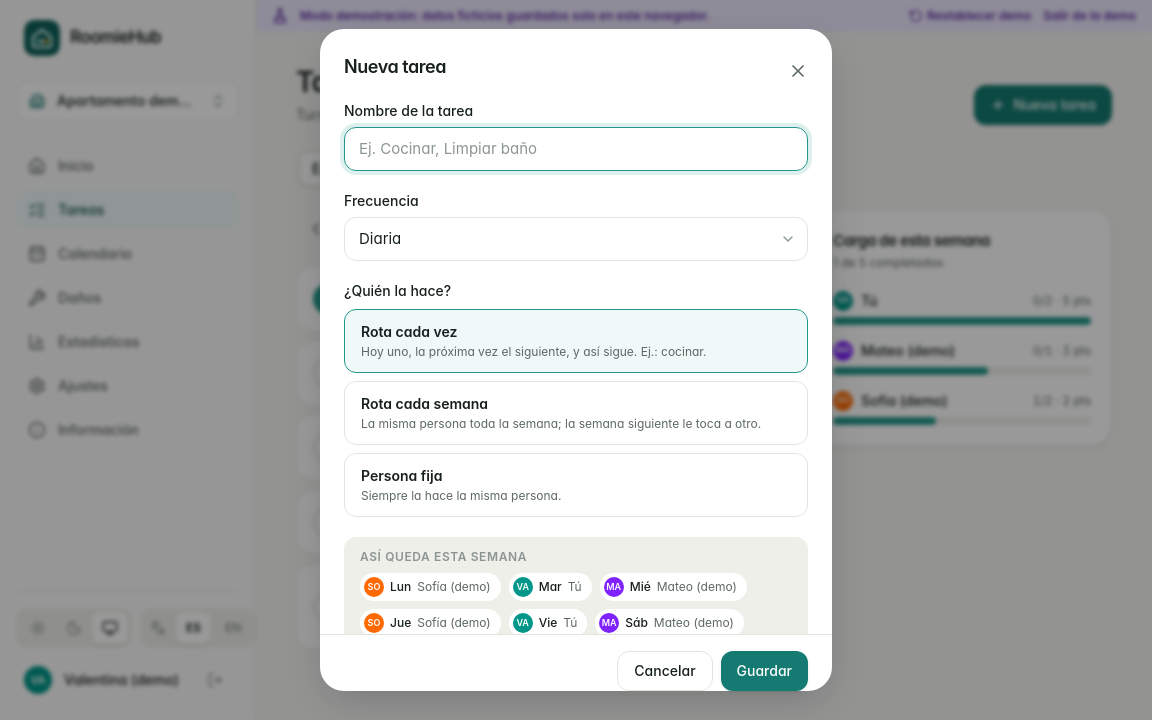
Scenario: deleting chores › removes a chore created by mistake completely, including skipped turns
The width and height of the screenshot is (1152, 720).
In the field labelled "Nombre de la tarea": (576, 149) [344,127,808,171], type "Tarea equivocada"
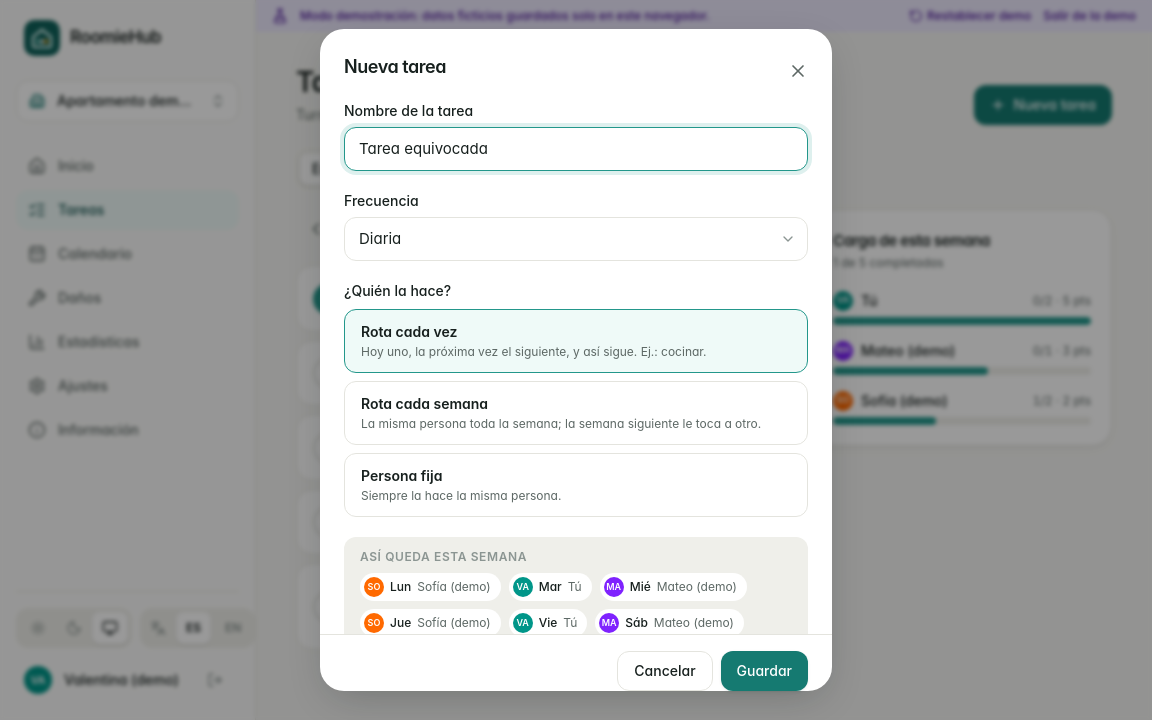
Click the button "Guardar": (764, 671) [721,651,808,691]
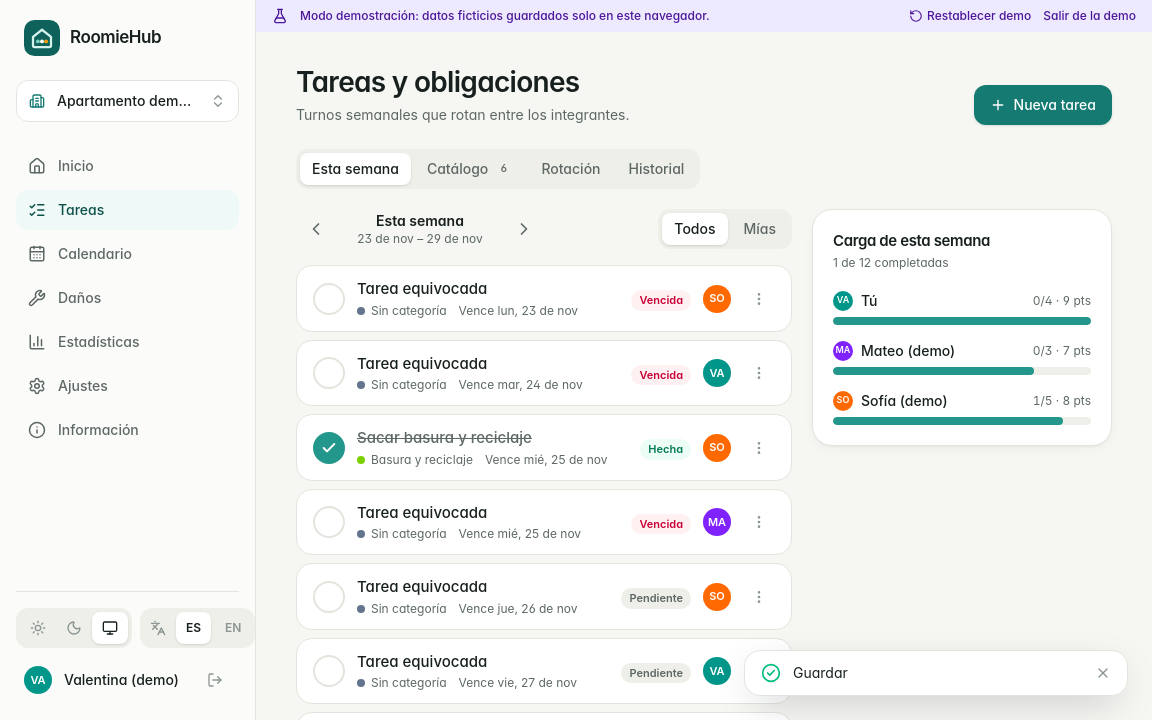
Check: the dialog is gone
Click the button named "Acciones" in the row of "Vence lun, 23 de nov": (759, 299) [743,283,775,315]
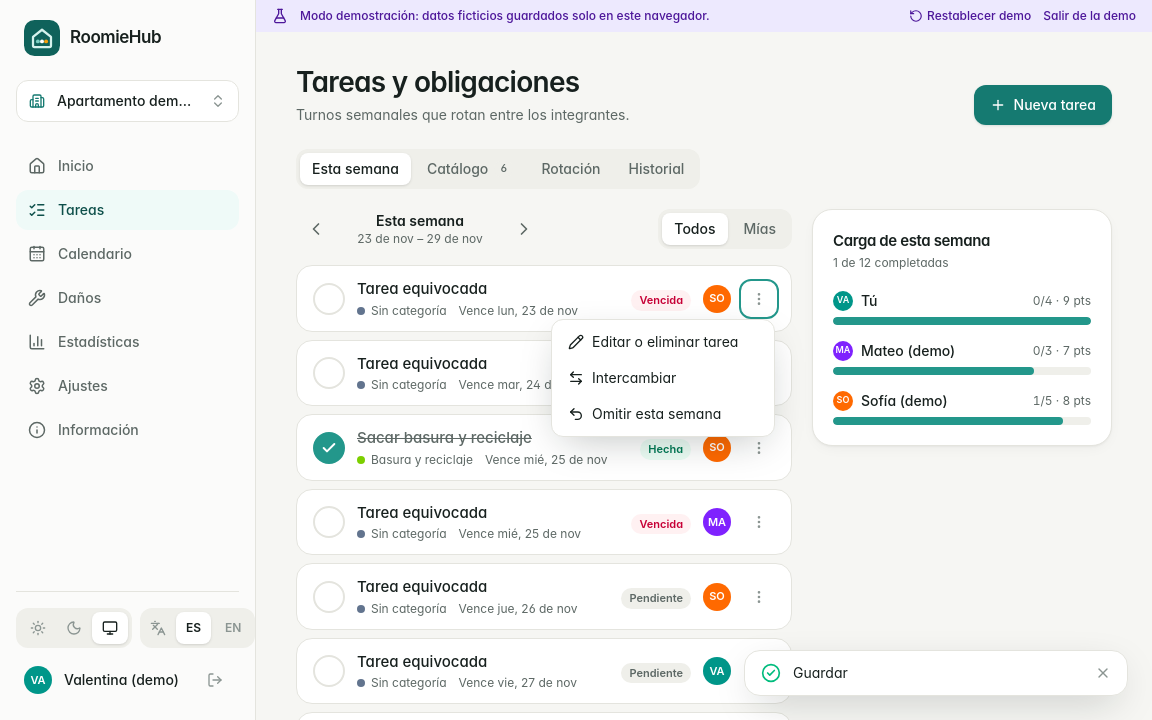
Click the menu item "Editar o eliminar tarea": (663, 342) [556,324,770,360]
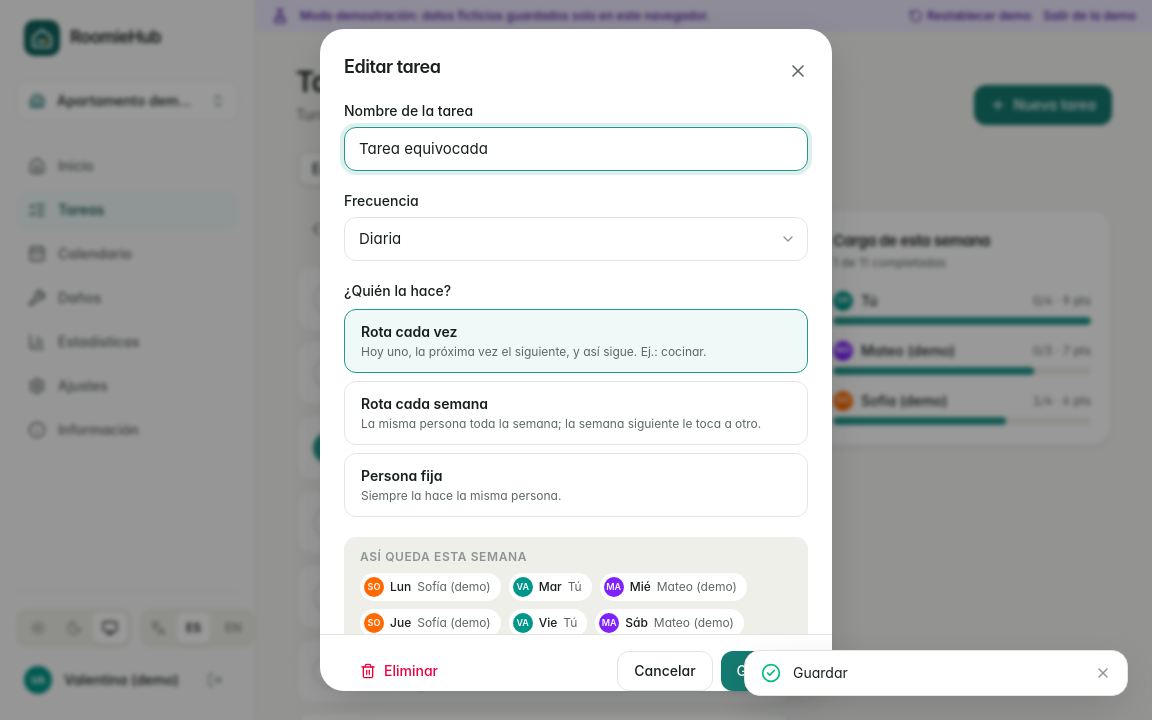
Click the button "Eliminar": (399, 671) [344,651,454,691]
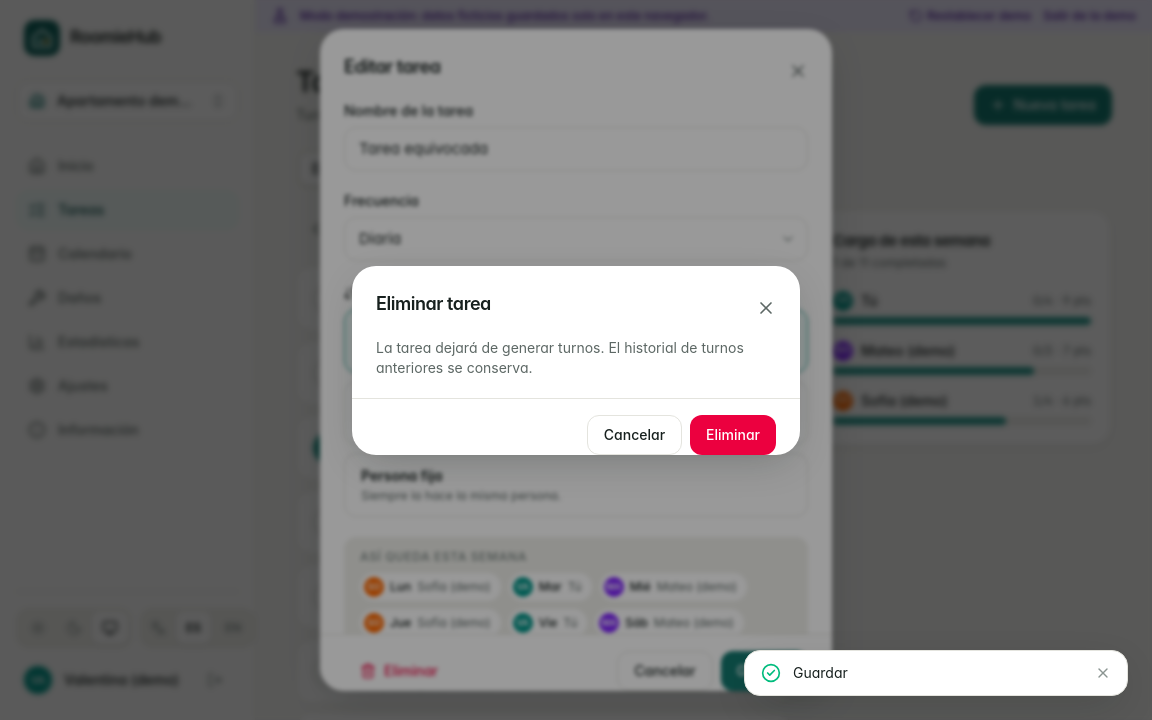
Click the button "Eliminar": (733, 434) [690,414,776,454]
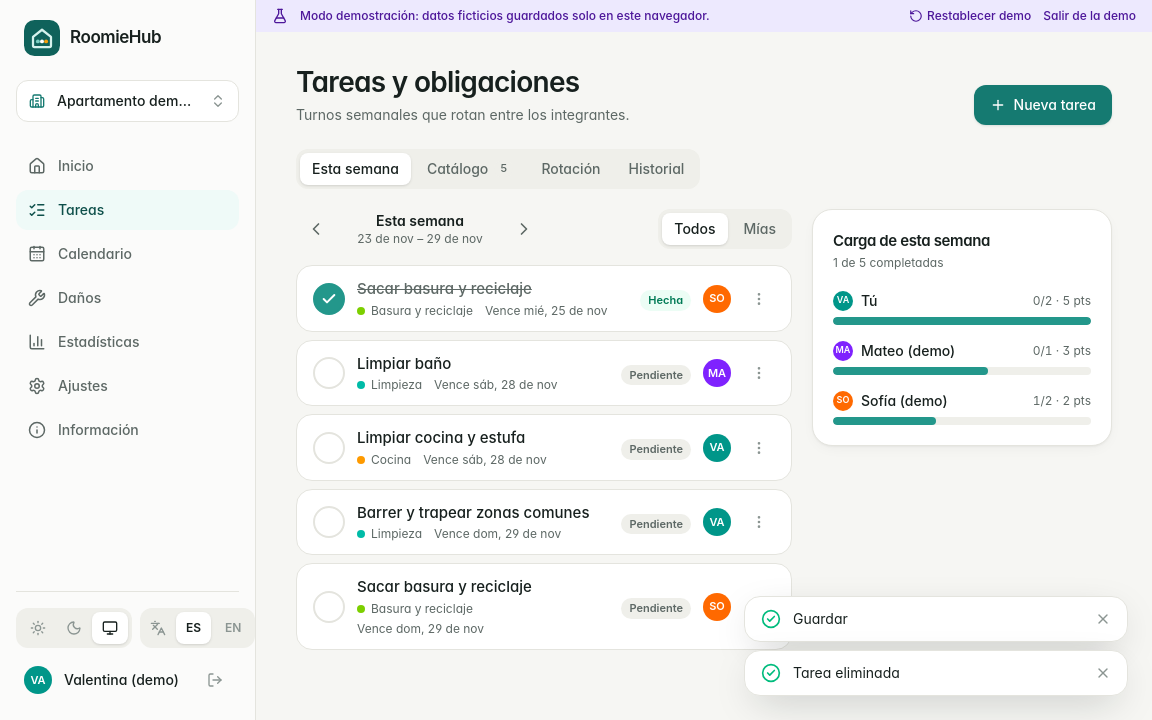
Check: the text "Tarea equivocada" is gone
